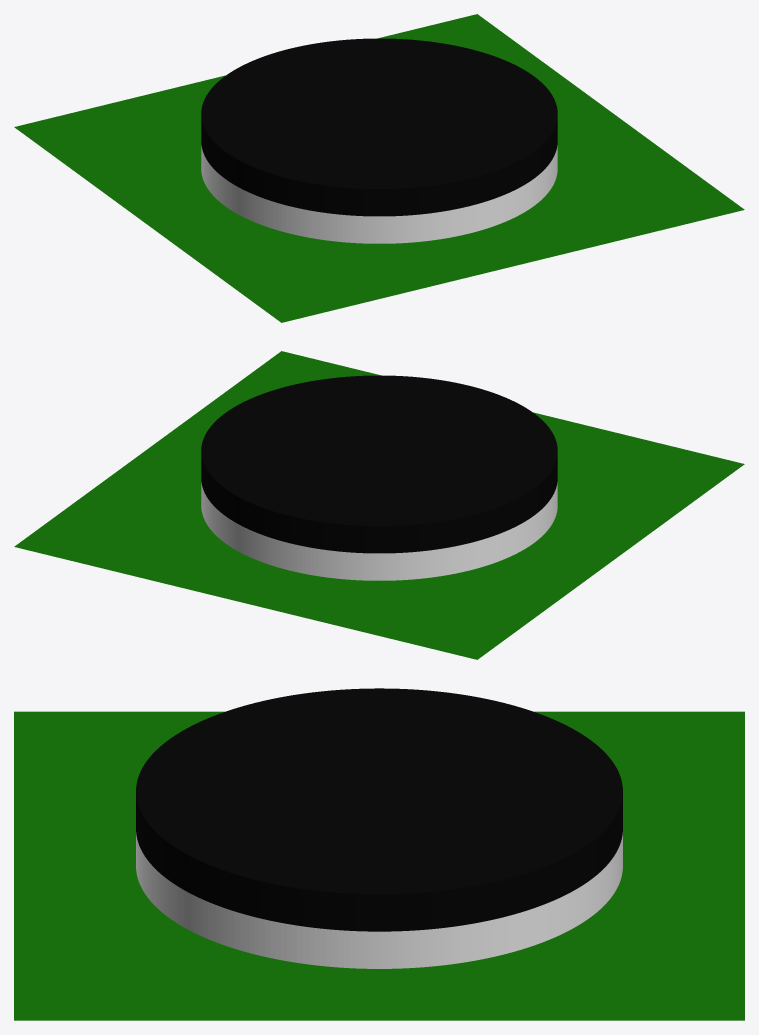
File: reversi-piece.glb
The picture shows the model from 3 angles, top to bottom: view 1: azimuth 30°, elevation 25°; view 2: azimuth 150°, elevation 25°; view 3: azimuth 270°, elevation 25°; orthographic projection. The views are drawn at different scales.
Visible parts, largest first — view 1: Cylinder, Plane; view 2: Cylinder, Plane; view 3: Plane, Cylinder.
Boxes of the visible parts, x1,y1,x2,y2 form: Cylinder: [201, 38, 557, 243]; Plane: [14, 14, 744, 322]; Cylinder: [201, 375, 557, 580]; Plane: [14, 351, 744, 659]; Plane: [14, 711, 744, 1020]; Cylinder: [136, 688, 622, 968].
Size of the model in its own units: 2.98 by 0.3362 by 2.98.
